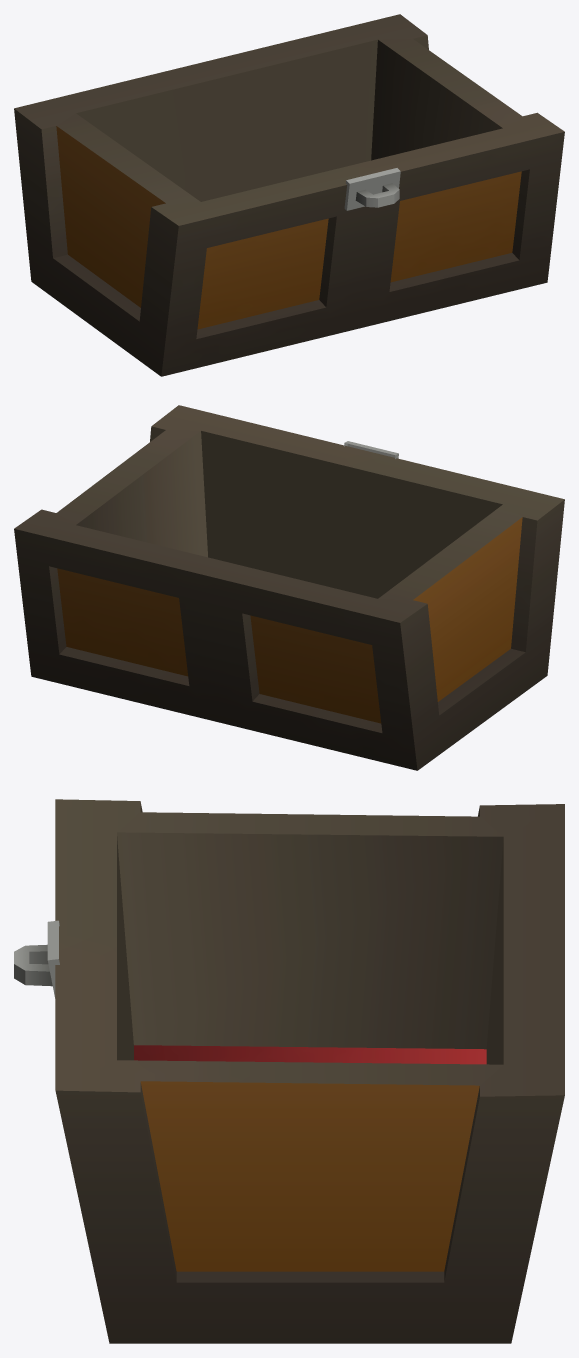
The model's file is Chest_Open.fbx.
The picture shows the model from 3 angles, top to bottom: view 1: azimuth 30°, elevation 25°; view 2: azimuth 150°, elevation 25°; view 3: azimuth 270°, elevation 25°; orthographic projection. The views are drawn at different scales.
Parts seen in each view (by area): view 1: Chest_Open; view 2: Chest_Open; view 3: Chest_Open.
Part boxes in pixels (x1=…): Chest_Open: x1=14, y1=14, x2=564, y2=376; Chest_Open: x1=14, y1=405, x2=564, y2=770; Chest_Open: x1=14, y1=799, x2=564, y2=1343.
Bounding box in the file's own units: 103 × 81.94 × 42.48.
Materials: 1 (1 with a texture image).
